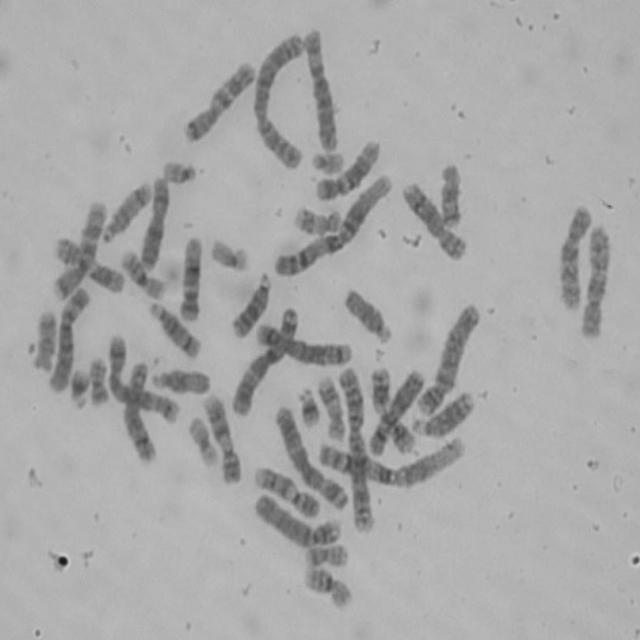A1: (272, 169, 394, 278), (313, 431, 468, 492)
A2: (250, 30, 306, 172), (336, 362, 375, 536)
A3: (273, 402, 351, 510), (229, 301, 299, 418)
B4: (414, 297, 482, 420), (253, 490, 343, 550)
B5: (104, 330, 180, 425), (254, 322, 354, 367)
C10: (556, 202, 593, 311), (578, 223, 612, 340)
C11: (53, 231, 128, 297), (367, 366, 417, 457)
C12: (312, 134, 383, 202), (178, 233, 204, 323)
C6: (300, 24, 341, 153), (46, 283, 91, 396)
C7: (180, 57, 256, 145), (52, 197, 108, 300)
C8: (398, 178, 469, 262), (121, 358, 156, 466)
C9: (200, 390, 243, 486), (251, 462, 322, 520)
D13: (410, 388, 476, 438), (229, 269, 272, 340)
D14: (99, 177, 153, 244), (146, 298, 201, 359)
D15: (339, 285, 394, 346), (148, 362, 212, 396)
E16: (118, 246, 167, 302), (302, 562, 354, 612)
E17: (313, 372, 346, 444), (291, 201, 343, 236)
E18: (436, 158, 465, 229), (30, 307, 59, 373)
F19: (186, 412, 220, 469), (208, 234, 252, 274)
F20: (302, 540, 349, 569), (86, 353, 110, 407)
G21: (296, 382, 323, 429), (67, 365, 91, 412)
G22: (159, 156, 198, 186), (308, 148, 346, 177)
X: (369, 368, 427, 459), (137, 173, 170, 271)
